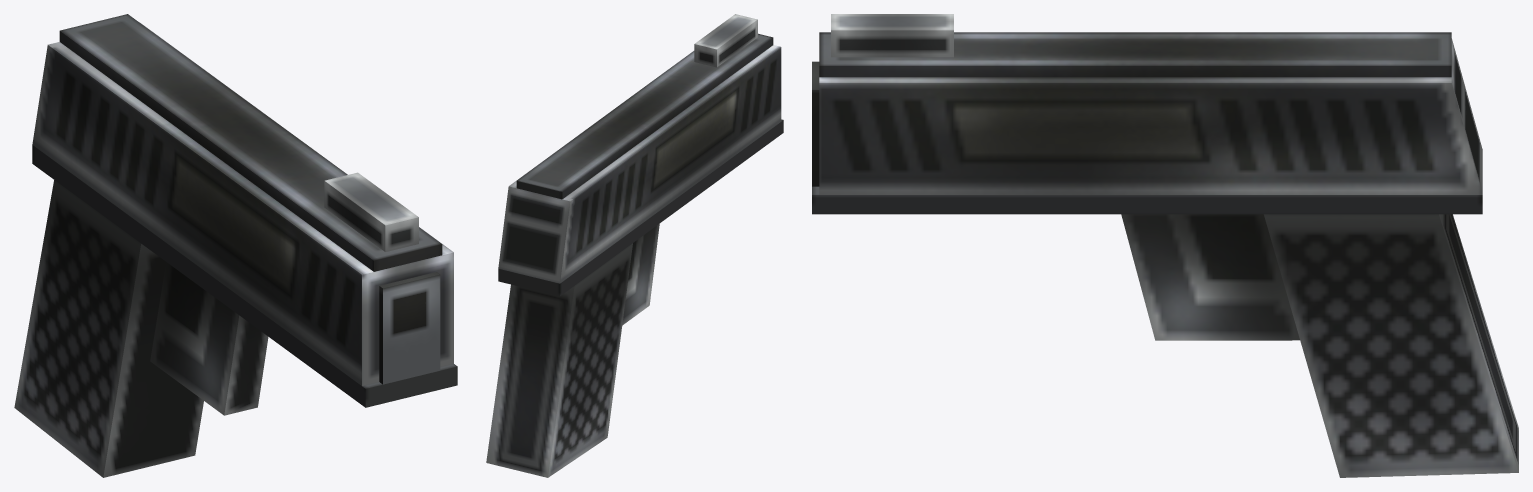
The model's file is weapon_gun.FBX.
3 views of the same model, side by side, from view 1: azimuth 30°, elevation 25°; view 2: azimuth 150°, elevation 25°; view 3: azimuth 270°, elevation 25° (orthographic). The views are drawn at different scales.
Visible parts, largest first — view 1: weapon_gun; view 2: weapon_gun; view 3: weapon_gun.
Part boxes in pixels (box(x1,y1,x2,y2)): weapon_gun: box(14, 14, 457, 477); weapon_gun: box(486, 14, 783, 477); weapon_gun: box(812, 14, 1518, 477).
Bounding box in the file's own units: 7.15 × 32 × 47.32.
